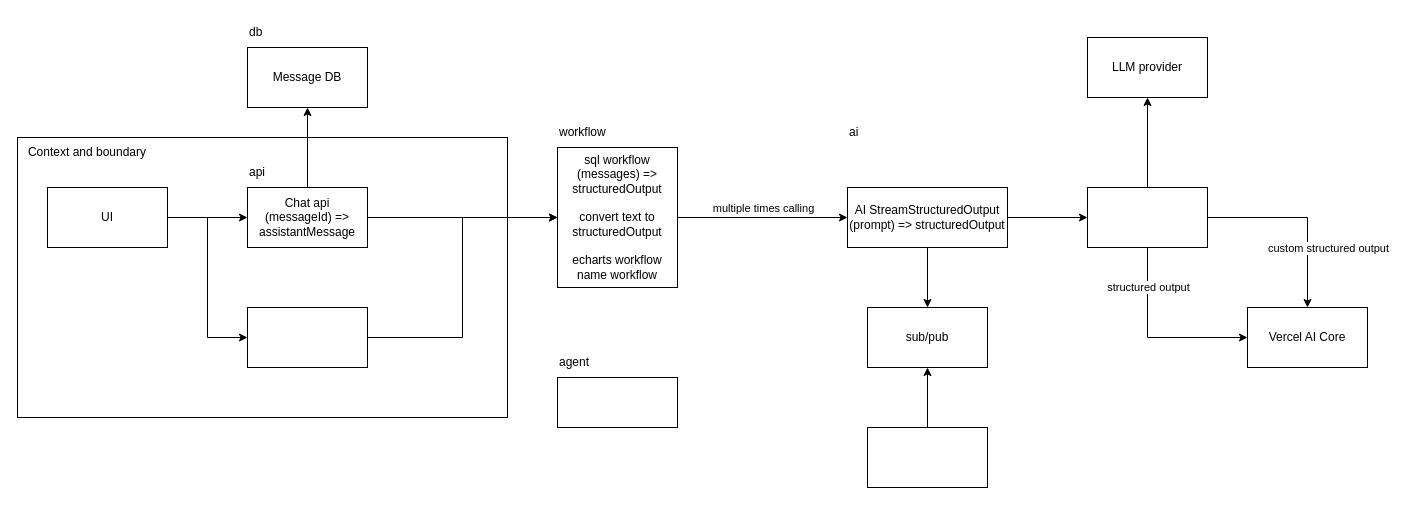
Some shapes in this 1406 by 505 pixel diagram are drawn without their labels. Each missing label, with the centre of its shape:
"agent <Draft>" goes at pixel 617 402.
"AI Stream wrap (prompt) => text" goes at pixel 1147 217.
"Question api <Draft>" goes at pixel 307 337.
"Usage records" goes at pixel 927 457.
